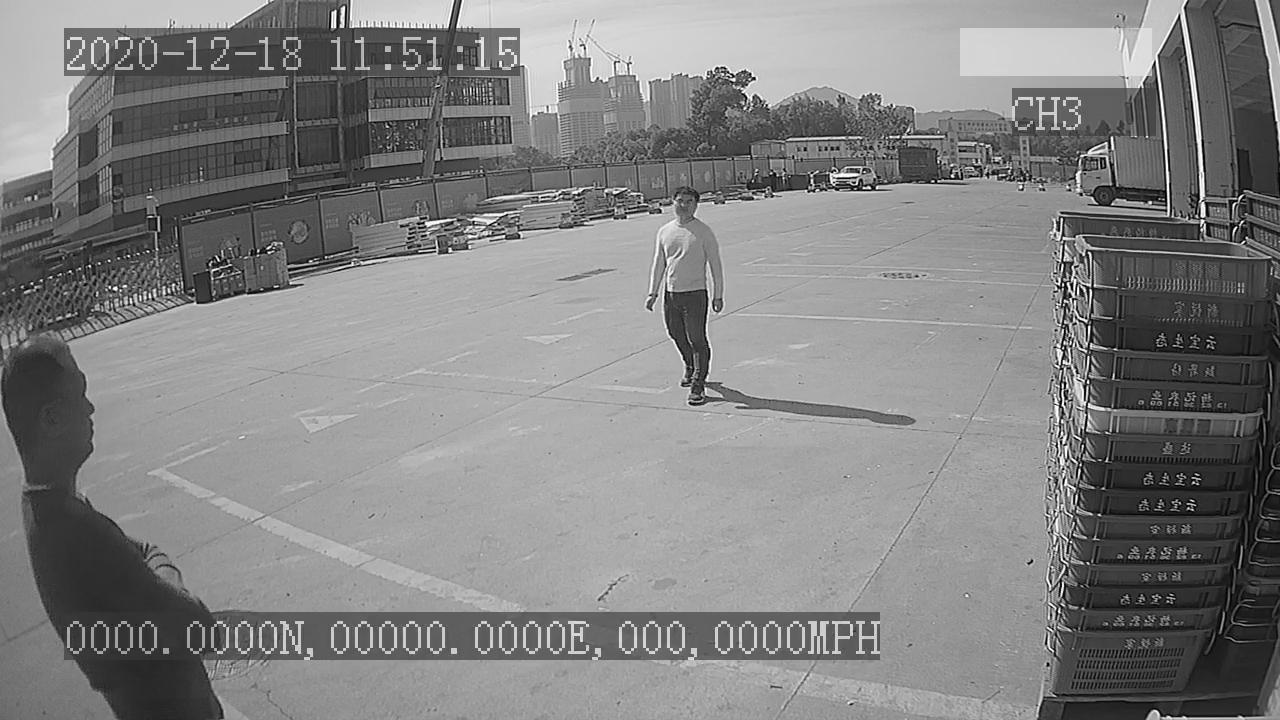person: (643, 183, 726, 408)
